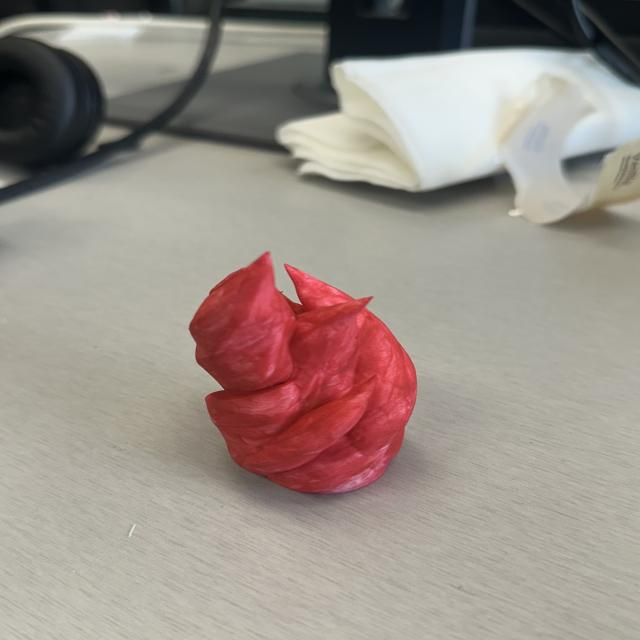fire: (186, 248, 420, 498)
